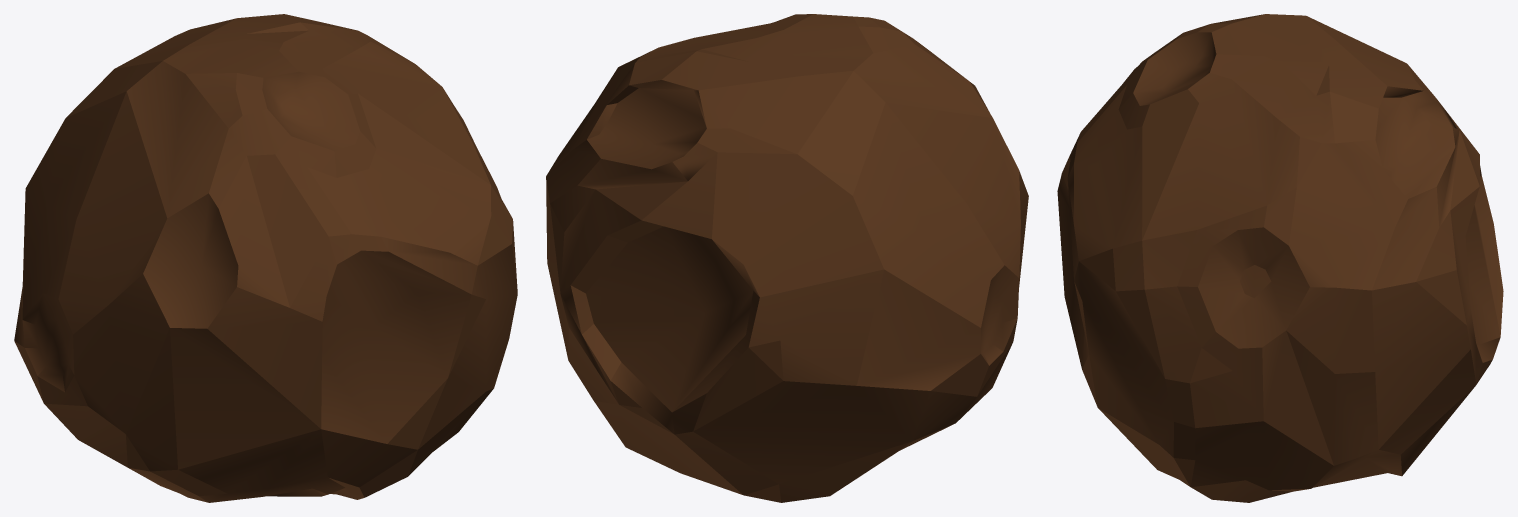
Rendered from asteroid3.fbx.
3 views of the same model, side by side, from view 1: azimuth 30°, elevation 25°; view 2: azimuth 150°, elevation 25°; view 3: azimuth 270°, elevation 25° (orthographic). The views are drawn at different scales.
Parts seen in each view (by area): view 1: Asteroid_003; view 2: Asteroid_003; view 3: Asteroid_003.
Part boxes in pixels (x1,y1,x2,y2): Asteroid_003: (14, 14, 517, 502); Asteroid_003: (546, 14, 1028, 502); Asteroid_003: (1057, 14, 1503, 502).
Size of the model in its own units: 2.53 by 2.51 by 2.39.
